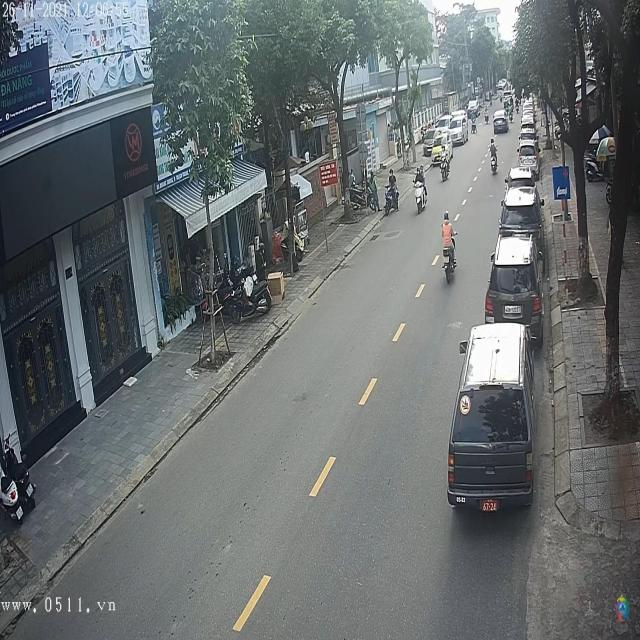car: (449, 324, 535, 512), (484, 237, 544, 331), (500, 187, 544, 236), (516, 146, 537, 168), (518, 130, 537, 150), (494, 116, 510, 134)
motorcycle: (442, 236, 458, 282), (414, 179, 428, 217)
